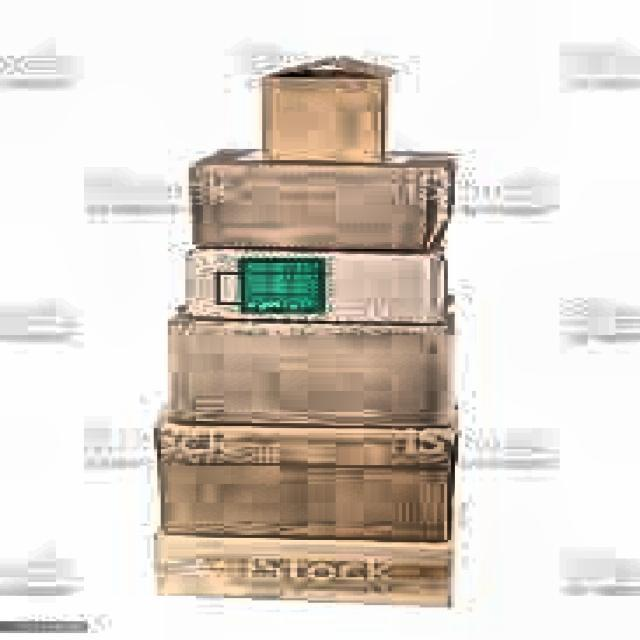cardboard: (150, 54, 462, 606)
